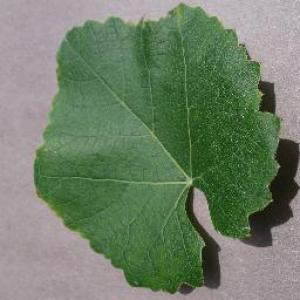Folha: (33, 1, 281, 294)
